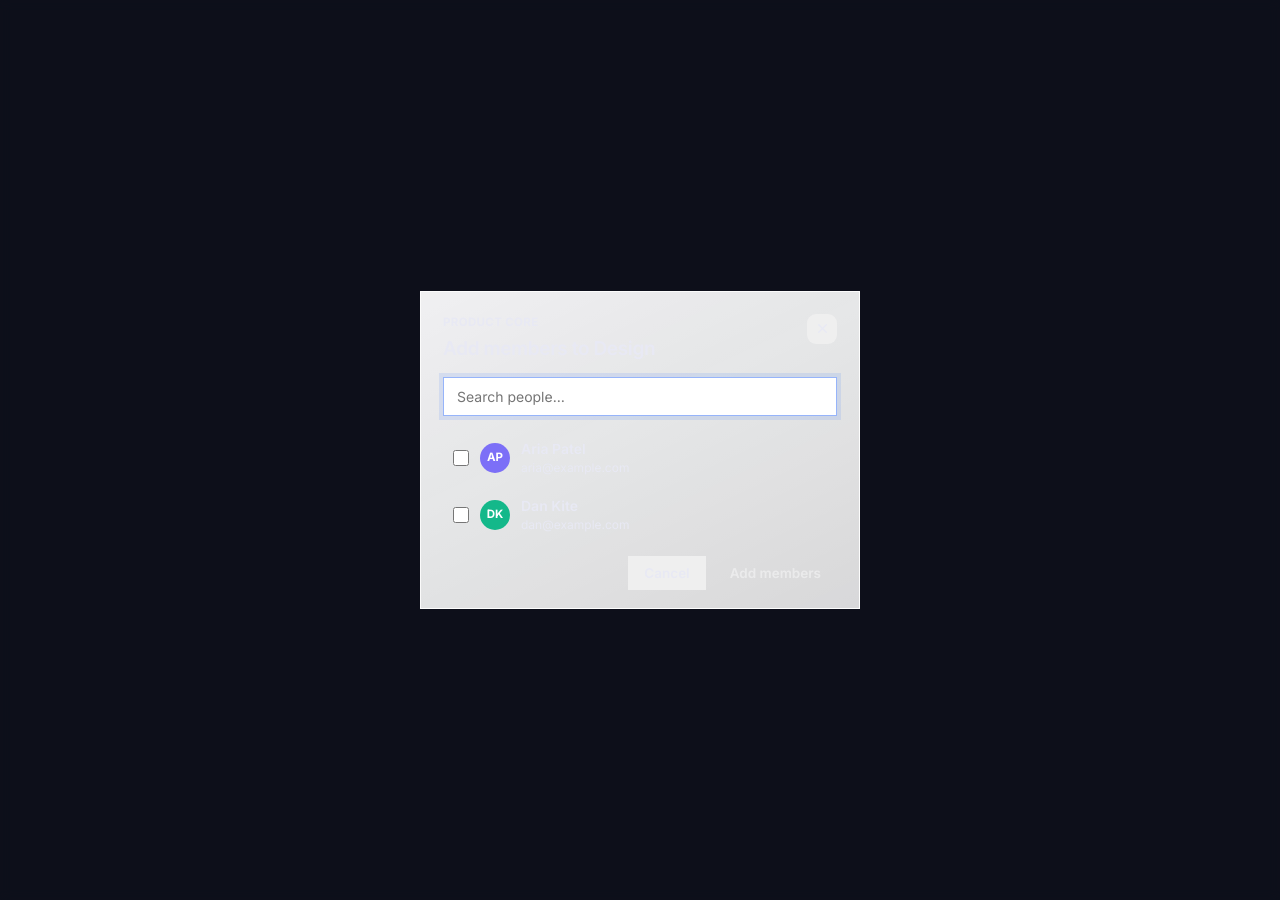
Scenario: AddTeamMembersModal › stays open and names who failed, keeping only them selected
Click the checkbox labelled "DK Dan Kite dan@example.com".
click(461, 515)  # box [453,507,469,523]
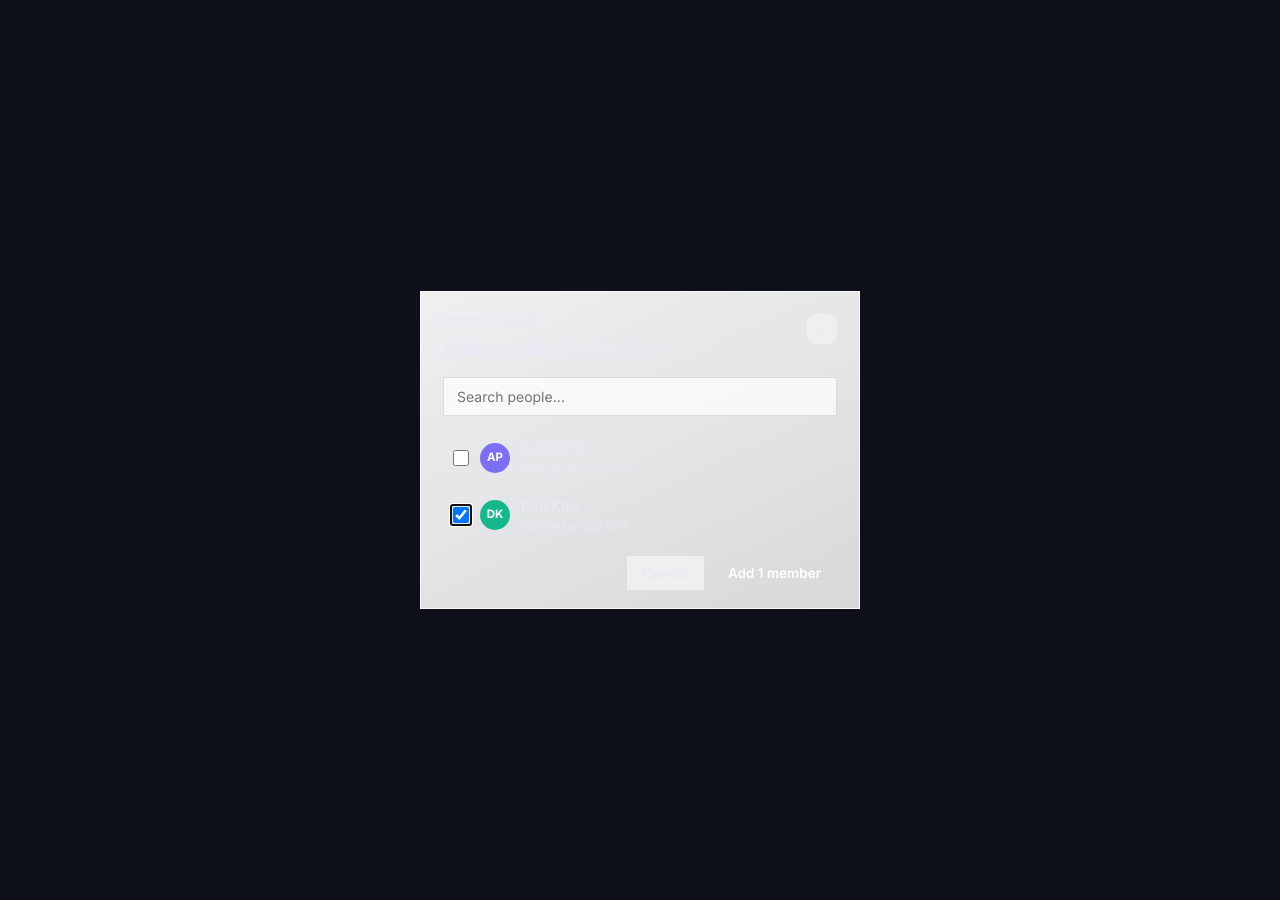
Click the checkbox labelled "AP Aria Patel aria@example.com".
click(461, 458)  # box [453,450,469,466]
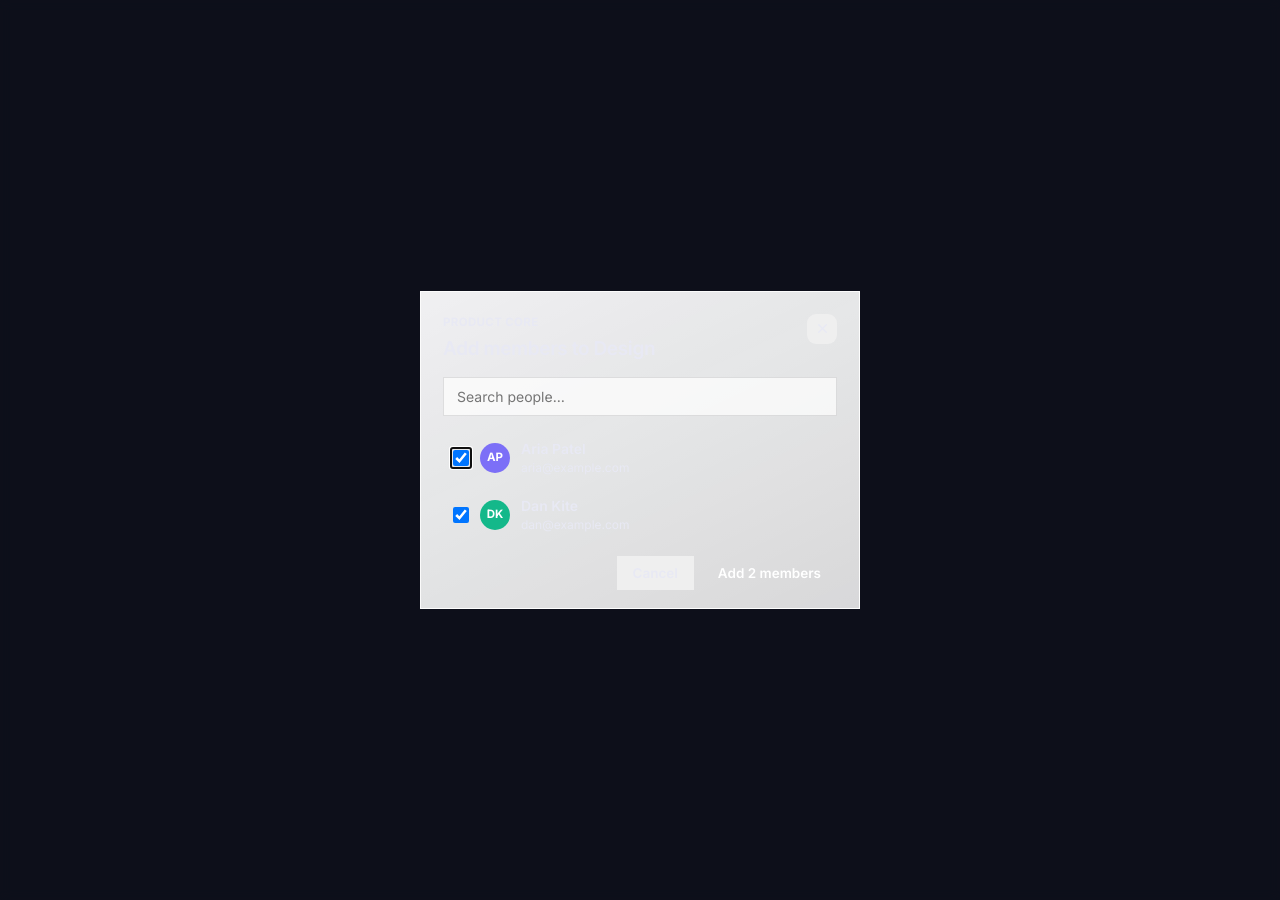
Click the button "Add 2 members".
click(769, 573)  # box [702,556,837,590]
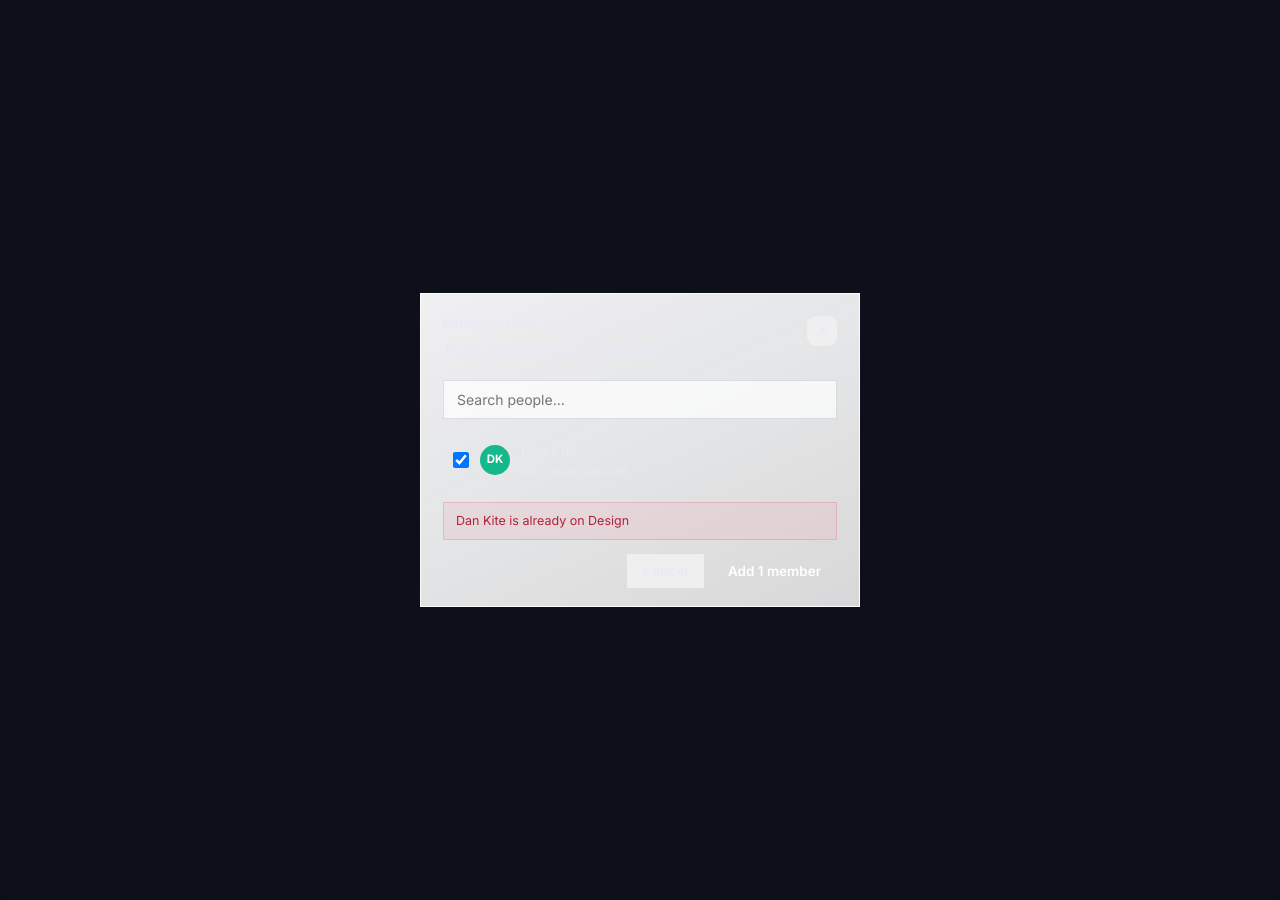
Expected: the text "Aria Patel" is not shown
Expected: the checkbox labelled "DK Dan Kite dan@example.com" is checked, [453,452,469,468]
Expected: the text "Dan Kite is already on Design" is shown, [456,512,629,528]
